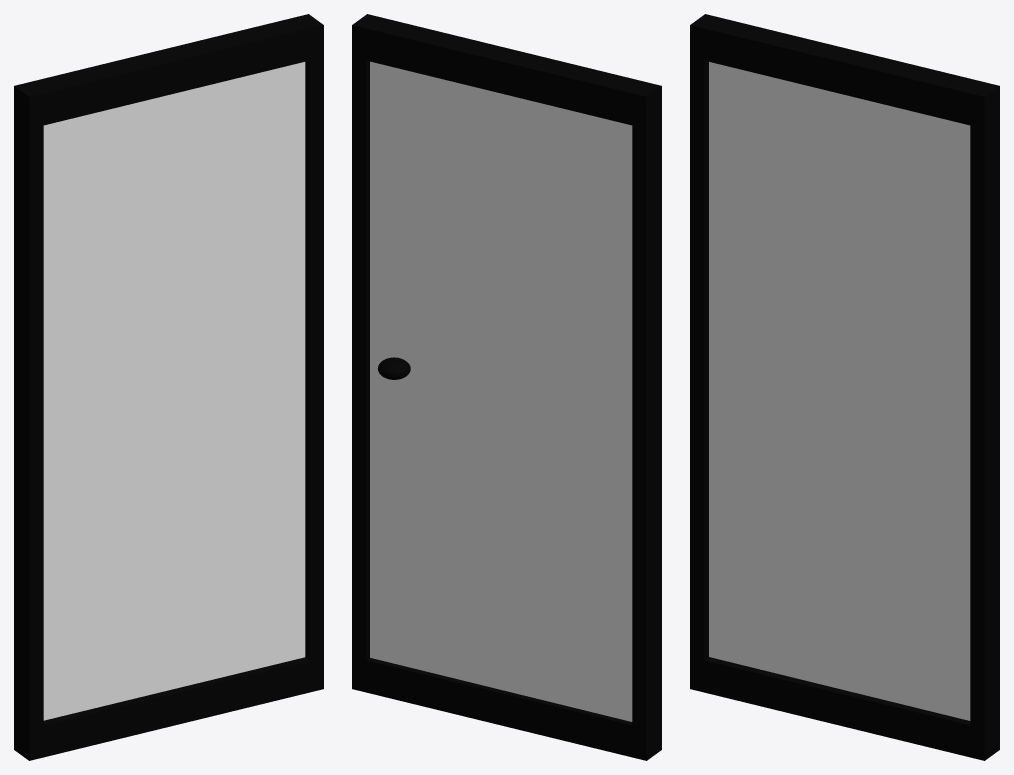
Rendered from Door.obj.
3 views of the same model, side by side, from view 1: azimuth 30°, elevation 25°; view 2: azimuth 150°, elevation 25°; view 3: azimuth 330°, elevation 25° (orthographic).
Visible parts, largest first — view 1: 立方体.001, 立方体; view 2: 立方体.001, 立方体, 球; view 3: 立方体.001, 立方体.
Boxes of the visible parts, x1,y1,x2,y2 form: 立方体.001: (43,62,305,720); 立方体: (14,14,323,760); 立方体.001: (370,61,632,721); 立方体: (352,14,661,760); 球: (378,357,410,379); 立方体.001: (709,62,970,720); 立方体: (690,14,999,760).
Bounding box in the file's own units: 0.4622 × 0.9957 × 0.0673.
